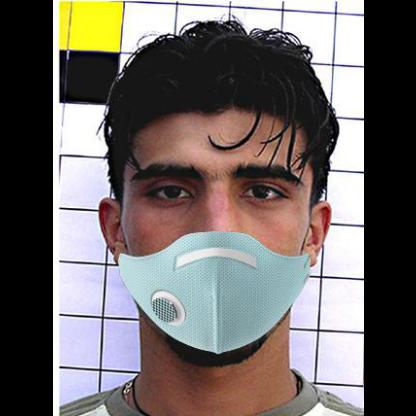FFP Mask: (109, 113, 315, 358)
